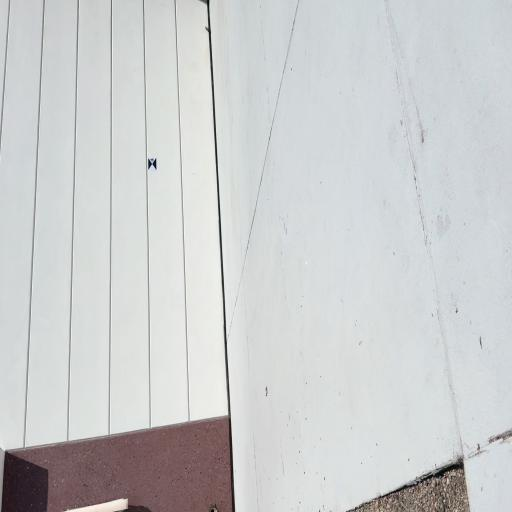target4: (148, 156, 157, 171)
